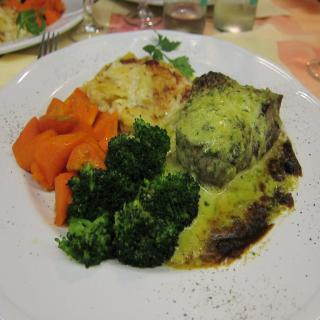Broccoli: (54, 116, 202, 269)
